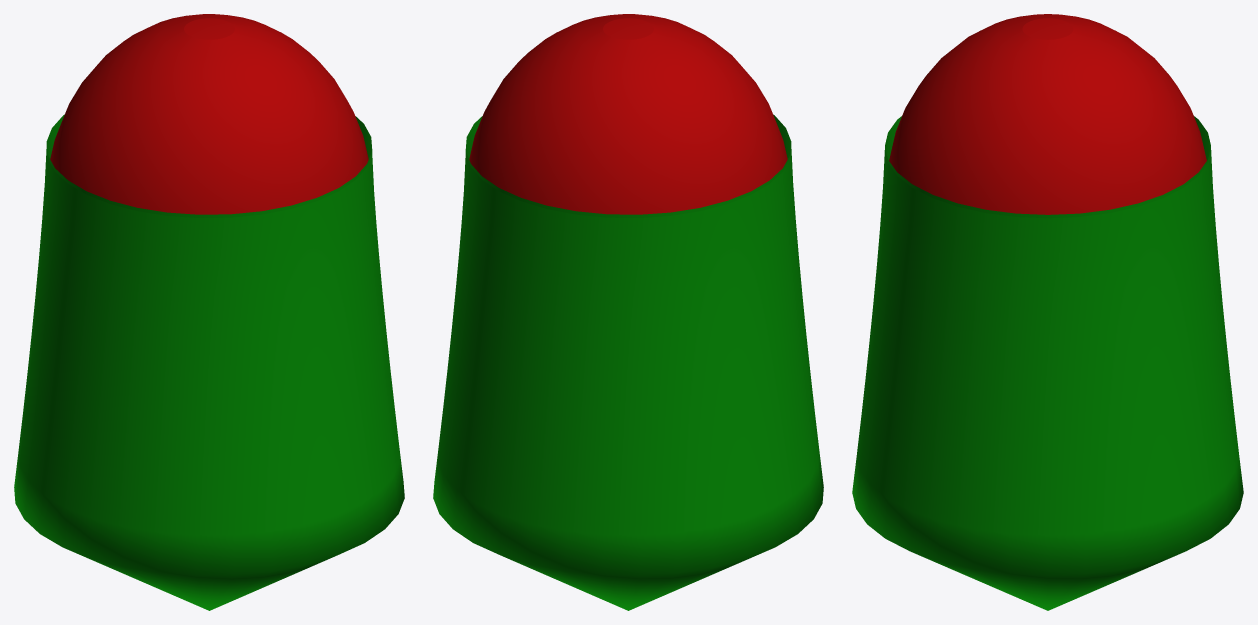
Rendered from AmethystDeceiver_Growth.glb.
The picture shows the model from 3 angles, left to right: view 1: azimuth 30°, elevation 25°; view 2: azimuth 150°, elevation 25°; view 3: azimuth 270°, elevation 25°; orthographic projection.
Parts seen in each view (by area): view 1: AmethystDeceiver; view 2: AmethystDeceiver; view 3: AmethystDeceiver.
Boxes of the visible parts, box(x1,y1,x2,y2) form: AmethystDeceiver: box(14, 14, 404, 610); AmethystDeceiver: box(433, 14, 823, 610); AmethystDeceiver: box(852, 14, 1243, 610).
Bounding box in the file's own units: 0.0096 × 0.0158 × 0.0096.
